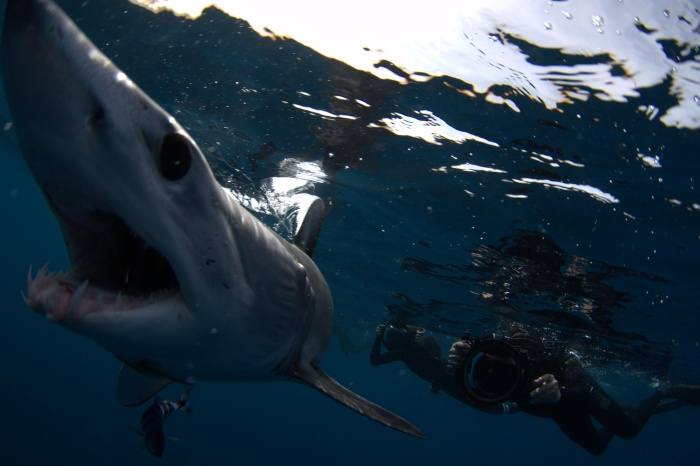Mako: (1, 1, 434, 449)
